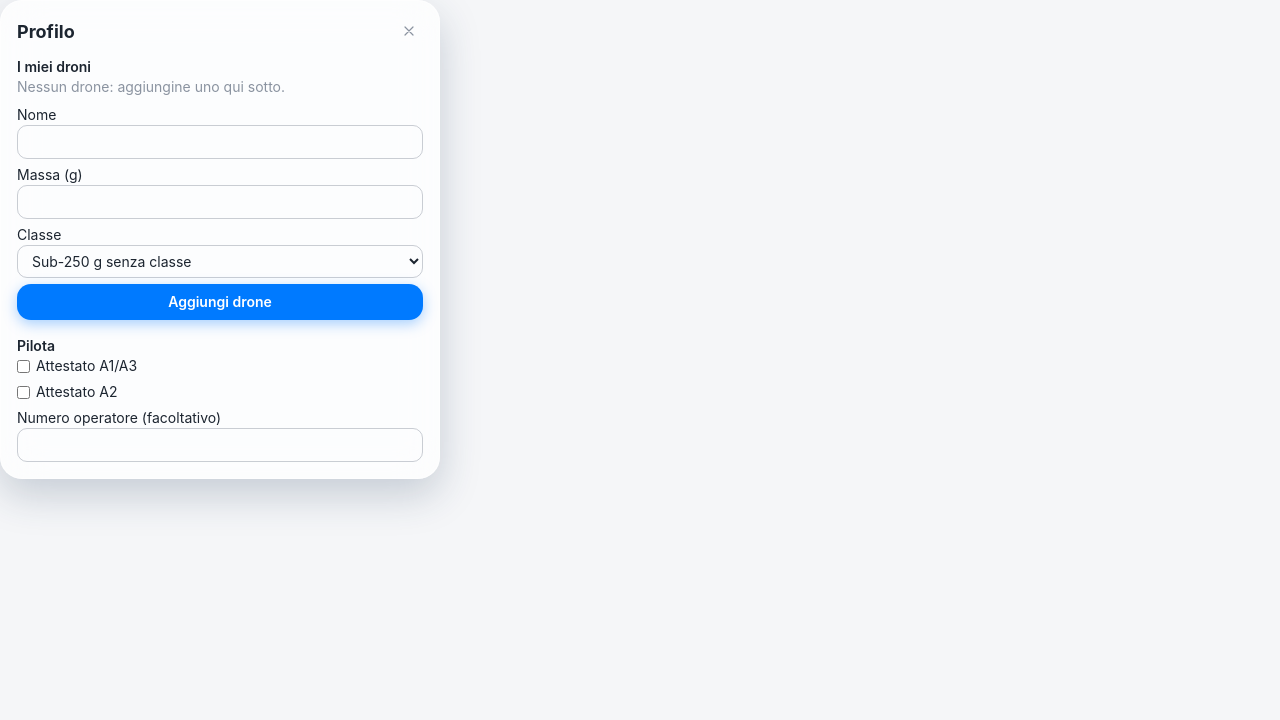
Test: rifiuta un drone senza nome
The width and height of the screenshot is (1280, 720).
Click the button "Aggiungi drone" at point(220, 302), box [17, 284, 423, 320]
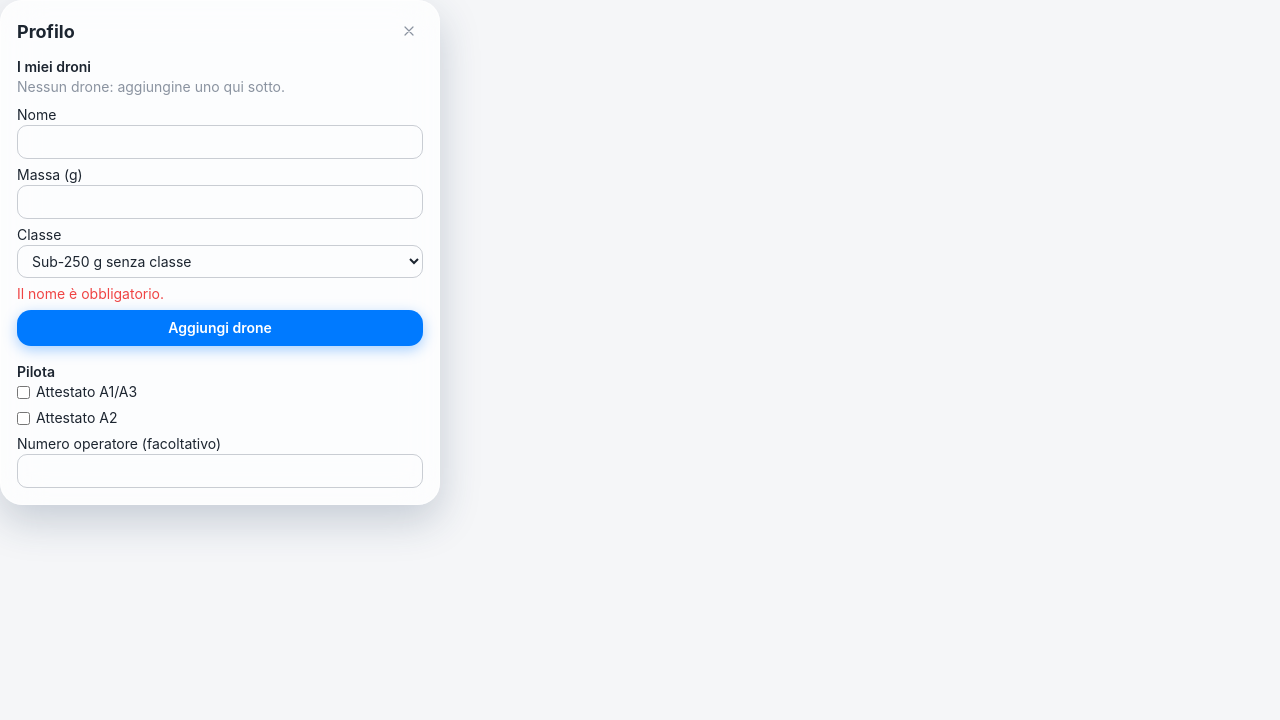
Expected: the text "Il nome è obbligatorio." is shown, [17, 285, 164, 302]
